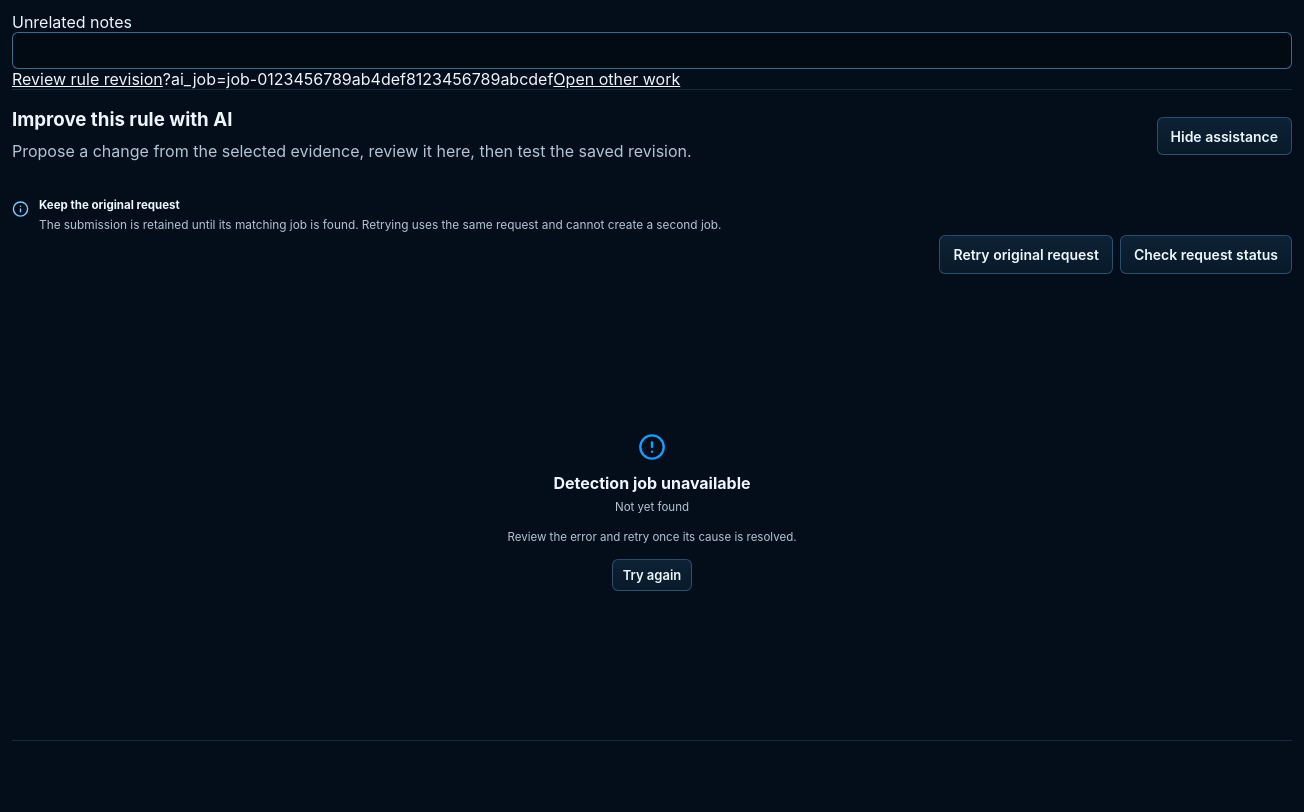
Test case: restores an uncertain request on reload and retries the exact UUID and body
Click the button "Retry original request": (1026,254) left=939, top=235, right=1113, bottom=274
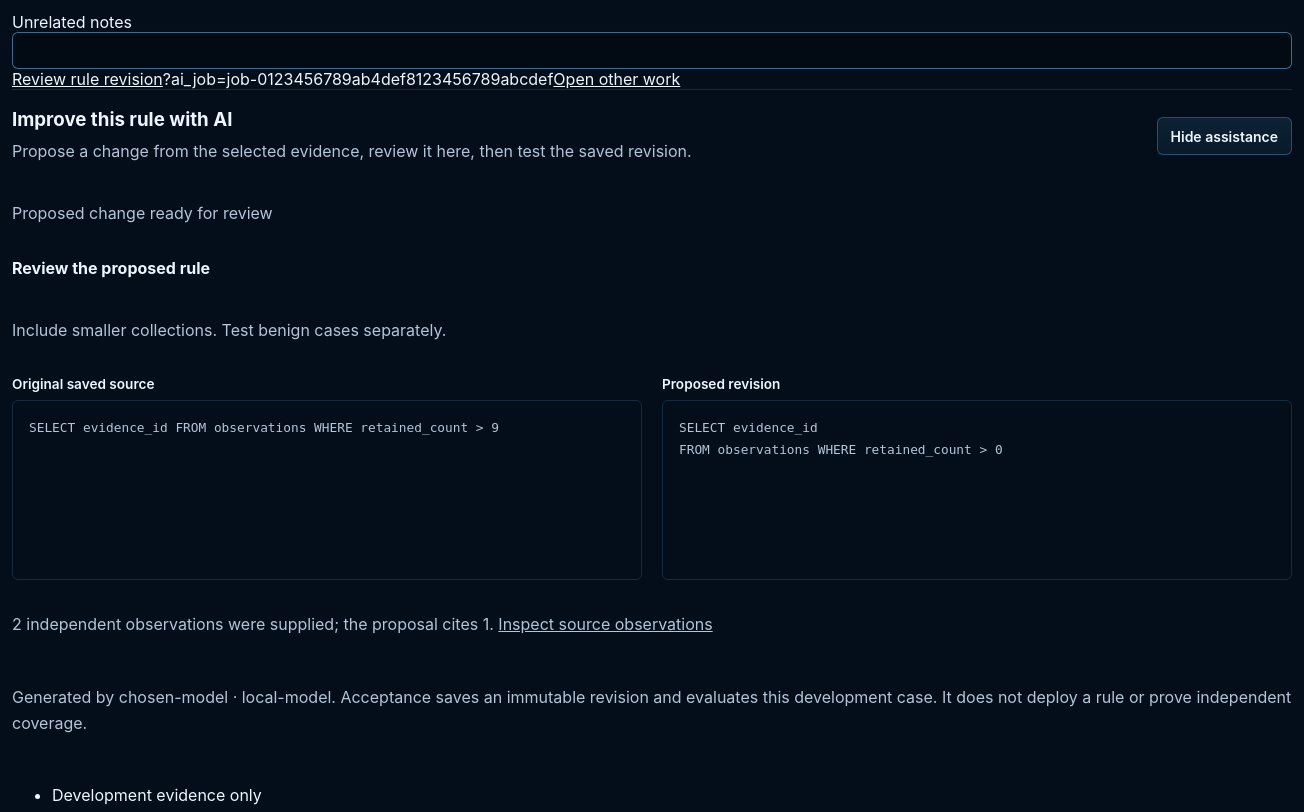
expect the heading "Review the proposed rule" is shown: met, box left=12, top=258, right=210, bottom=278
